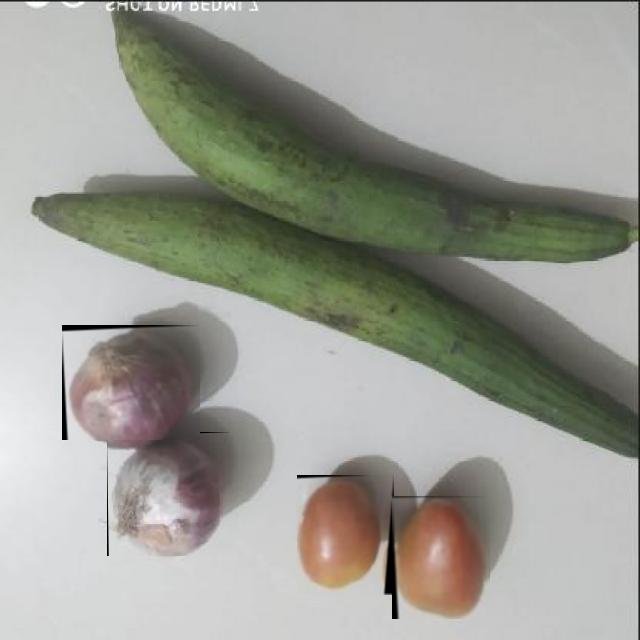onion: (62, 325, 200, 440), (107, 432, 233, 556)
tomato: (392, 496, 490, 619), (297, 476, 394, 596)
